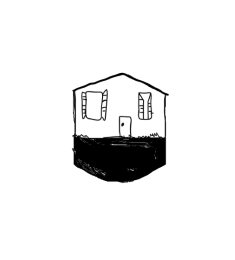door: (116, 113, 137, 142)
open_window: (78, 89, 110, 123), (137, 90, 155, 123)
shadow: (69, 134, 170, 186)
single_line_roof: (65, 68, 172, 99)
small_house: (0, 0, 235, 260)
wall: (69, 90, 170, 141)
